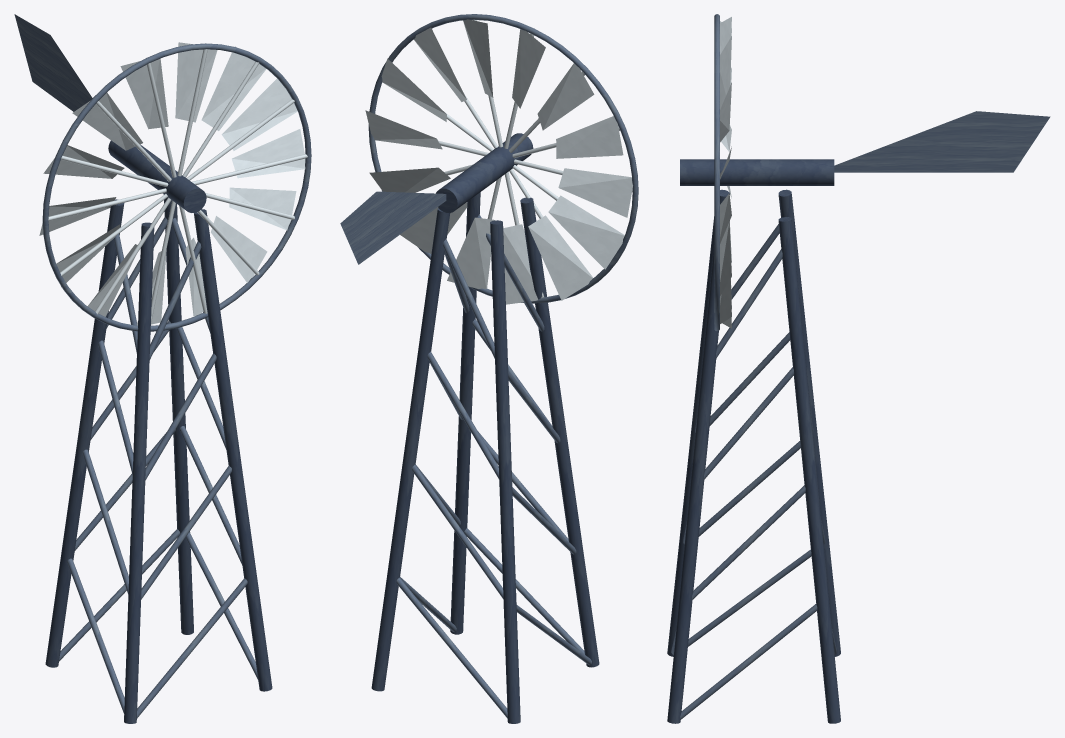
File: windmill.glb
3 views of the same model, side by side, from view 1: azimuth 30°, elevation 25°; view 2: azimuth 150°, elevation 25°; view 3: azimuth 270°, elevation 25° (orthographic). The views are drawn at different scales.
Visible parts, largest first — view 1: windmill; view 2: windmill; view 3: windmill.
Boxes of the visible parts, x1,y1,x2,y2 form: windmill: [14, 14, 311, 723]; windmill: [340, 14, 638, 723]; windmill: [667, 14, 1050, 723].
Size of the model in its own units: 2.57 by 5.9 by 3.1.
1 material, 1 textured.
